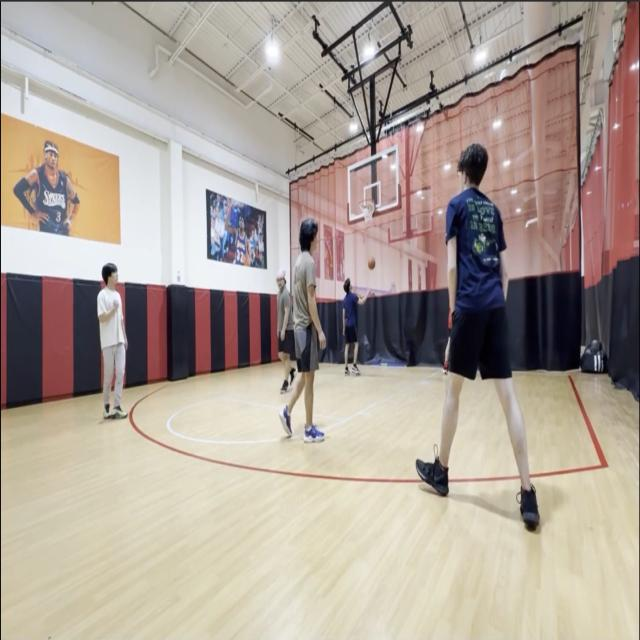Basketball: (368, 257, 376, 269)
Basketball Rim: (358, 199, 375, 224)
